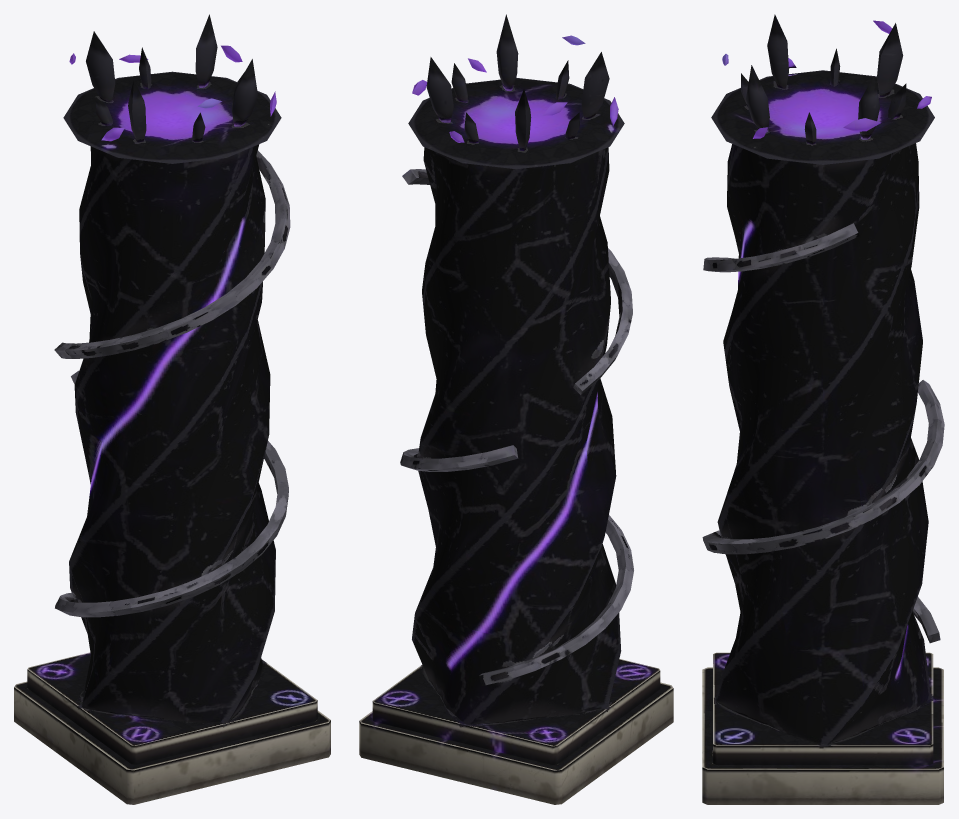
The model's file is abyss_pillar.glb.
3 renders of one model, left to right at view 1: azimuth 30°, elevation 25°; view 2: azimuth 150°, elevation 25°; view 3: azimuth 270°, elevation 25°, orthographic. The views are drawn at different scales.
Visible parts, largest first — view 1: abyss_pillar; view 2: abyss_pillar; view 3: abyss_pillar.
Boxes of the visible parts, x1,y1,x2,y2 form: abyss_pillar: (14, 14, 330, 804); abyss_pillar: (359, 14, 673, 804); abyss_pillar: (702, 14, 944, 804).
Size of the model in its own units: 1.37 by 4.42 by 1.36.
1 material, 1 textured.
